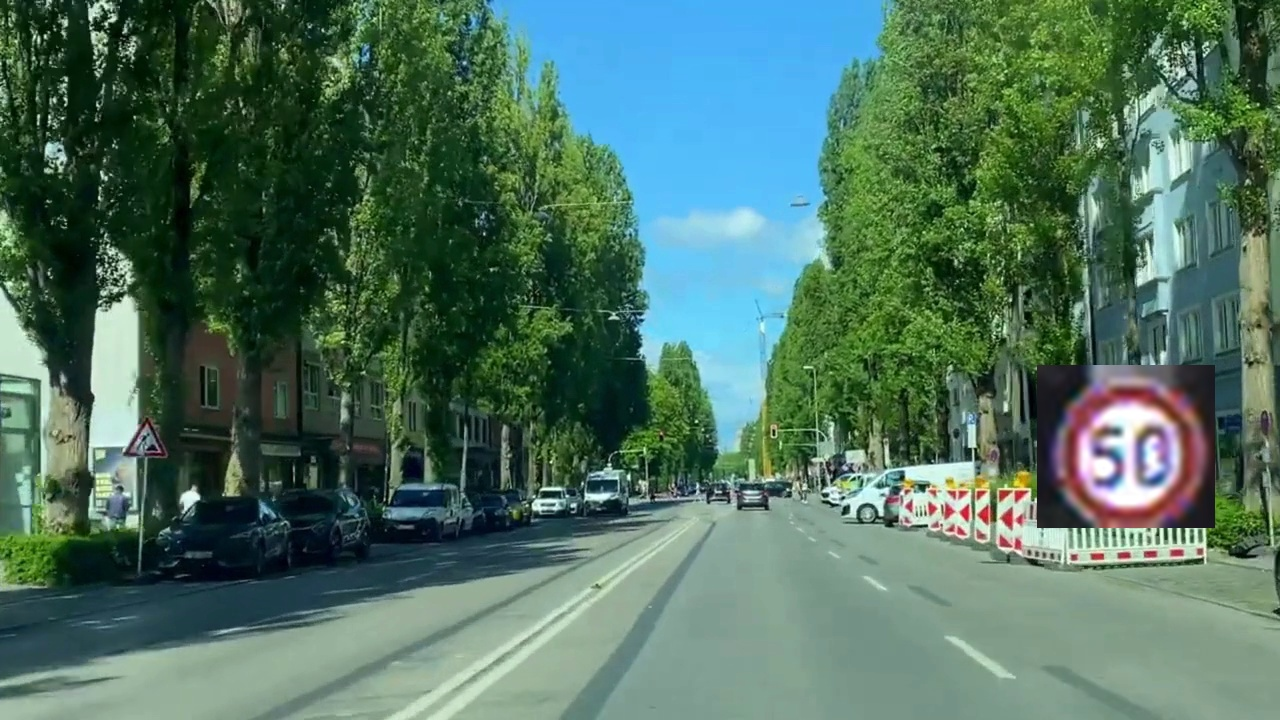Speed 50: (1037, 365, 1215, 528)
